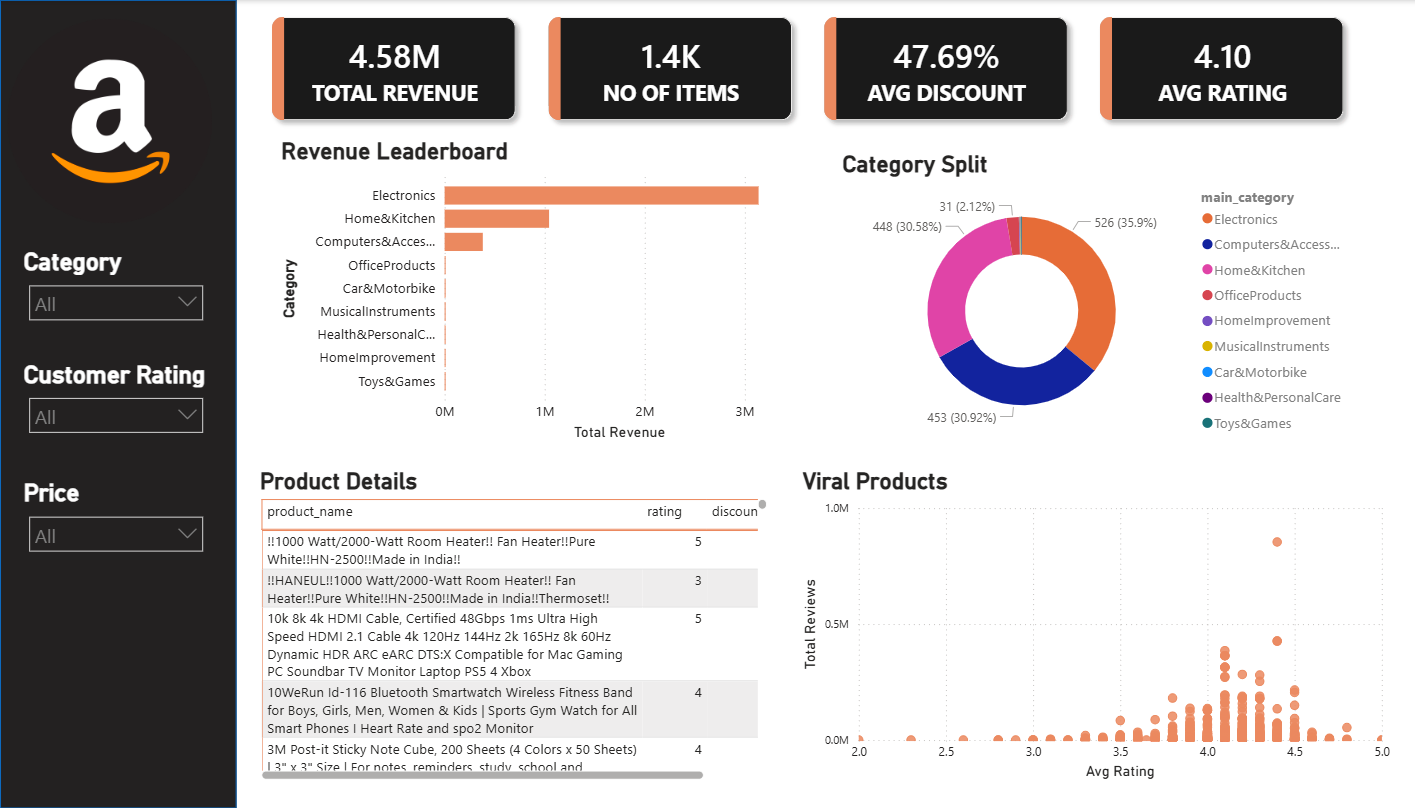

This screenshot's page, from the dashboard's own definition file:
{"tool":"powerbi","page":{"name":"Page 1","canvas":[1400,800],"ordinal":0},"visuals":[{"type":"shape","box":[0,0,234.1,800],"z":0},{"type":"image","box":[7.5,18,202.6,202.6],"z":1000},{"type":"slicer","title":"Category","fields":{"Values":["amazon_cleaned.main_category"]},"box":[18,244.6,192.1,91.6],"z":2000},{"type":"slicer","title":"Customer Rating","fields":{"Values":["amazon_cleaned.rating filter"]},"box":[18,355.7,192.1,85.5],"z":3000},{"type":"cardVisual","fields":{"Data":["amazon_cleaned.Total Revenue","Count(amazon_cleaned.product_id)","amazon_cleaned.Avg Discount %","amazon_cleaned.Avg Rating"]},"box":[252.1,0,1094.1,136.6],"z":4000},{"type":"clusteredBarChart","title":"Revenue Leaderboard","fields":{"Category":["amazon_cleaned.main_category"],"Y":["amazon_cleaned.Total Revenue"]},"box":[273.2,136.6,528.3,304.7],"z":5000},{"type":"donutChart","title":"Category Split ","fields":{"Category":["amazon_cleaned.main_category"],"Y":["CountNonNull(amazon_cleaned.product_id)"]},"box":[828.5,148.6,517.8,292.7],"z":6000},{"type":"tableEx","title":"Product Details","fields":{"Values":["amazon_cleaned.product_name","amazon_cleaned.rating","amazon_cleaned.discounted_price"]},"box":[252.3,473.7,512.1,312.9],"z":7000},{"type":"scatterChart","title":"Viral Products","fields":{"Category":["amazon_cleaned.product_name"],"Y":["amazon_cleaned.Total Reviews"],"X":["amazon_cleaned.Avg Rating"]},"box":[789.5,462.3,591.3,313.7],"z":8000},{"type":"slicer","title":"Price","fields":{"Values":["amazon_cleaned.discounted_price group"]},"box":[18,474.3,192.1,85.5],"z":9000}]}

Visuals, with their boxes in screenshot pixels (x1, y1, x2, y2), scaled from the page's 1400x800 canvas onto the 1415x808 screenshot:
shape: x1=0, y1=0, x2=237, y2=807
image: x1=8, y1=18, x2=212, y2=223
"Category" slicer: x1=18, y1=247, x2=212, y2=340
"Customer Rating" slicer: x1=18, y1=359, x2=212, y2=446
cardVisual - amazon_cleaned.Total Revenue x Count(amazon_cleaned.product_id): x1=255, y1=0, x2=1361, y2=138
"Revenue Leaderboard" clusteredBarChart: x1=276, y1=138, x2=810, y2=446
"Category Split " donutChart: x1=837, y1=150, x2=1361, y2=446
"Product Details" tableEx: x1=255, y1=478, x2=773, y2=794
"Viral Products" scatterChart: x1=798, y1=467, x2=1396, y2=784
"Price" slicer: x1=18, y1=479, x2=212, y2=565
